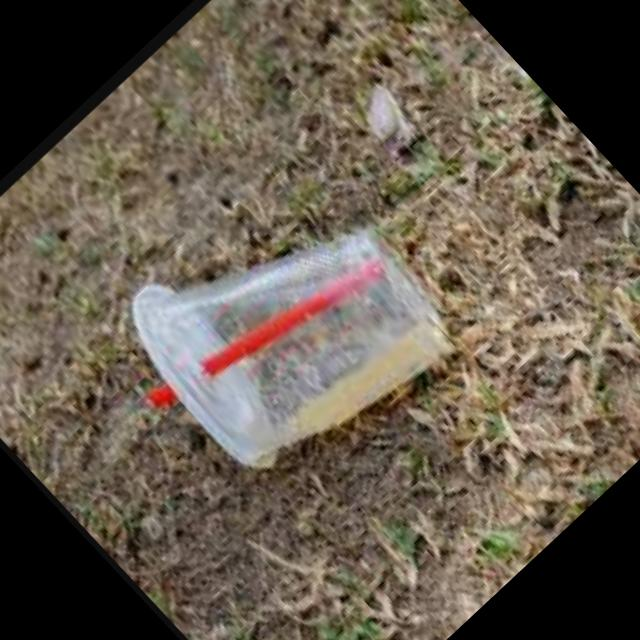GelasPlastik: (100, 142, 476, 518)
